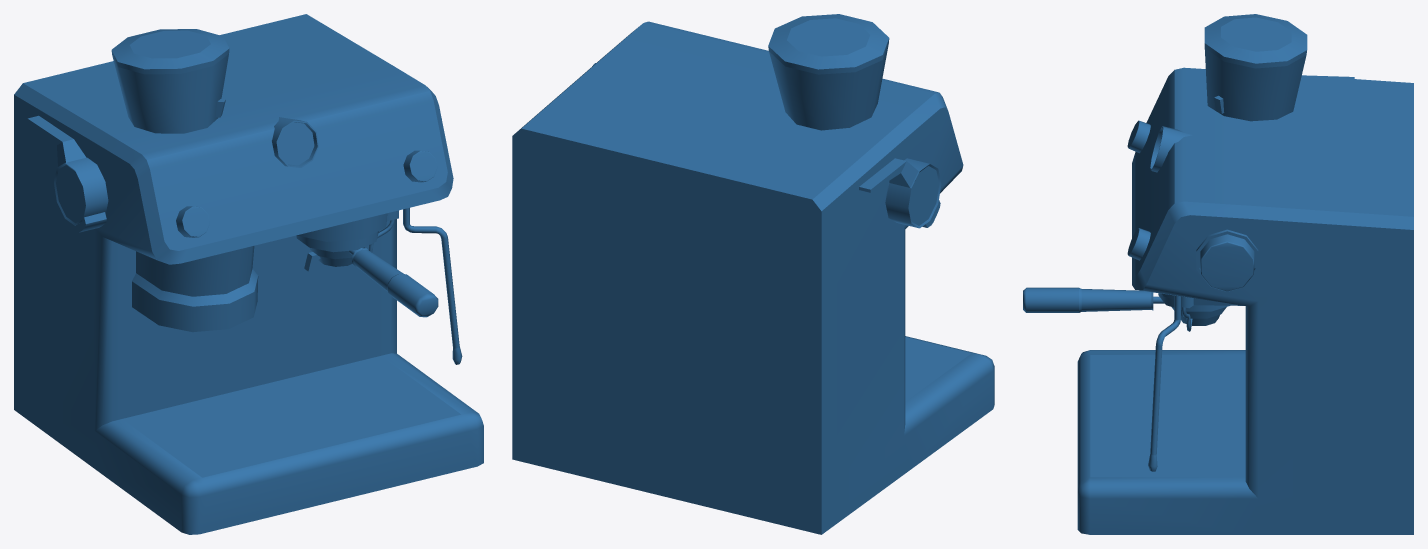
File: cafeteraitaliana.fbx
The picture shows the model from 3 angles, left to right: view 1: azimuth 30°, elevation 25°; view 2: azimuth 150°, elevation 25°; view 3: azimuth 270°, elevation 25°; orthographic projection. The views are drawn at different scales.
Visible parts, largest first — view 1: Cafetera; view 2: Cafetera; view 3: Cafetera.
Part boxes in pixels (box(x1,y1,x2,y2)): Cafetera: box(14, 14, 483, 534); Cafetera: box(512, 14, 994, 534); Cafetera: box(1023, 14, 1413, 534).
Size of the model in its own units: 0.4424 by 0.5075 by 0.4543.
